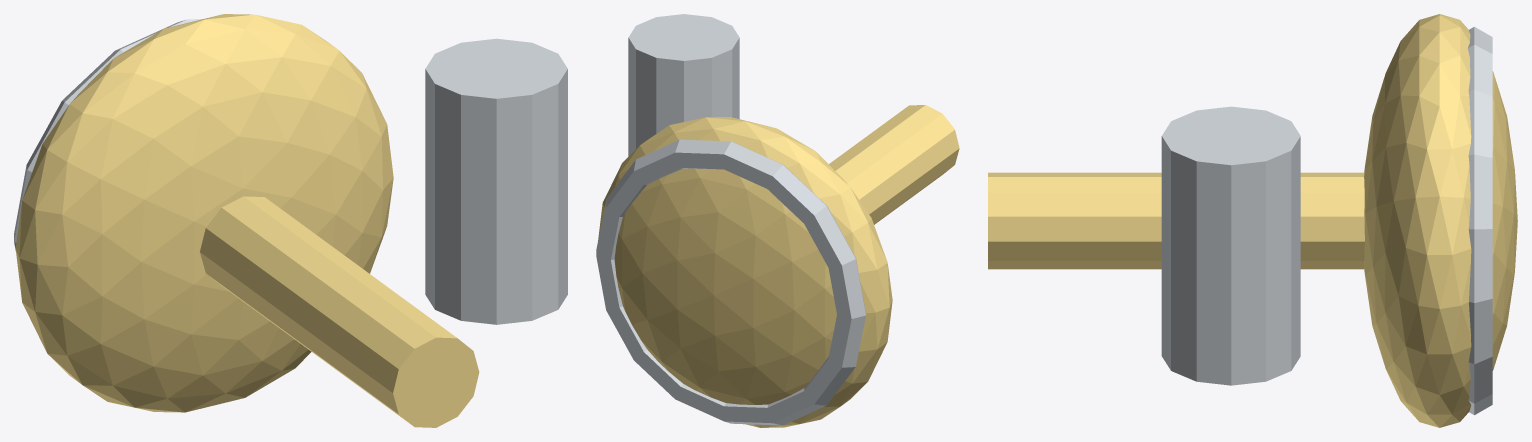
Rendered from ventosa_3.glb.
3 renders of one model, left to right at view 1: azimuth 30°, elevation 25°; view 2: azimuth 150°, elevation 25°; view 3: azimuth 270°, elevation 25°, orthographic. The views are drawn at different scales.
Visible parts, largest first — view 1: copa, deposito, tubo, aro; view 2: copa, aro, deposito, tubo; view 3: copa, deposito, tubo, aro.
Part boxes in pixels (box(x1,y1,x2,y2)): copa: box(15, 14, 393, 412); deposito: box(425, 38, 567, 324); tubo: box(200, 196, 479, 427); aro: box(14, 19, 202, 250); copa: box(598, 117, 892, 427); aro: box(596, 139, 865, 425); deposito: box(628, 14, 739, 156); tubo: box(829, 105, 959, 224); copa: box(1364, 14, 1517, 427); deposito: box(1161, 106, 1300, 385); tubo: box(988, 172, 1364, 269); aro: box(1467, 26, 1492, 415).
Size of the model in its own units: 0.8262 by 0.7082 by 0.9.
